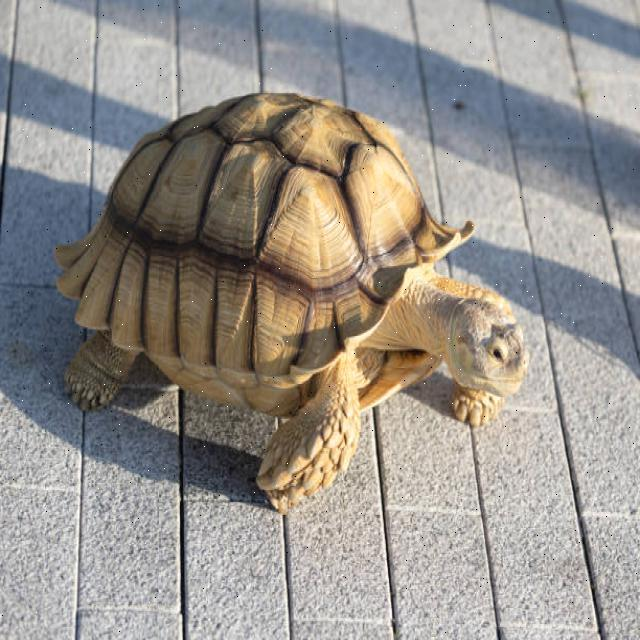tortoise: (42, 81, 534, 523)
